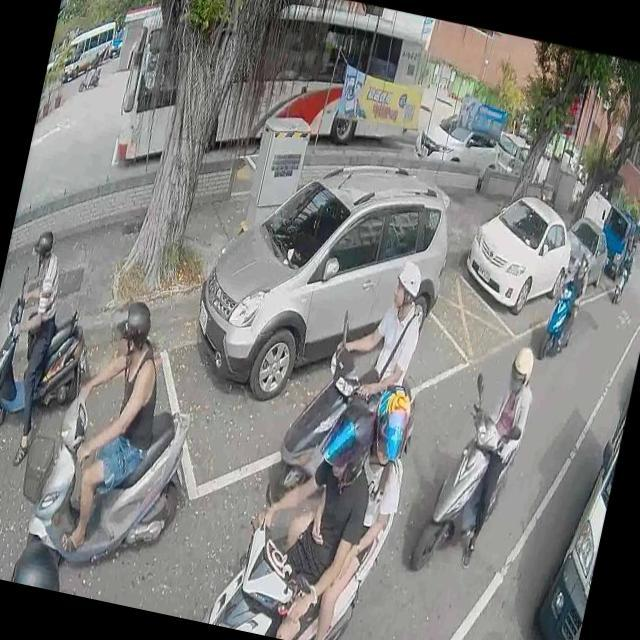person: (266, 359, 422, 640), (227, 379, 387, 640), (40, 286, 180, 570), (452, 333, 544, 574), (0, 217, 76, 461), (326, 251, 432, 412), (542, 251, 590, 356), (10, 530, 71, 592), (82, 44, 102, 90), (623, 250, 634, 270)
